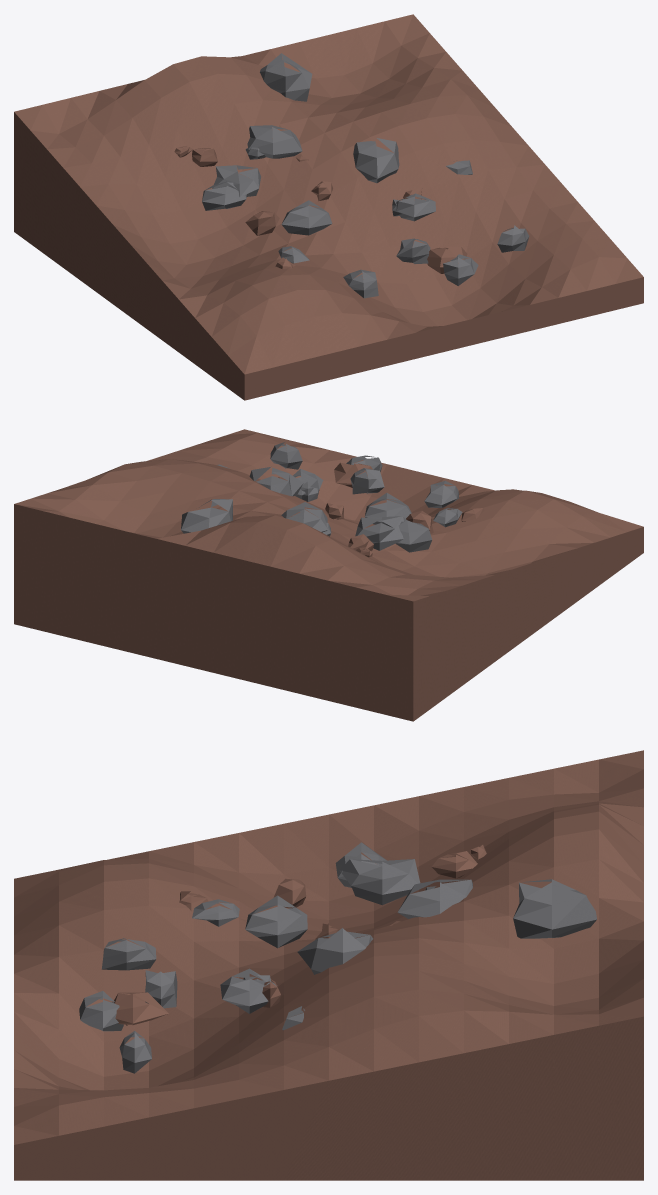
3 views of the same model, one above another, from view 1: azimuth 30°, elevation 25°; view 2: azimuth 150°, elevation 25°; view 3: azimuth 270°, elevation 25° (orthographic). The views are drawn at different scales.
Parts seen in each view (by area): view 1: volcano-and-lava-fields-cone-flank-module-shallow; view 2: volcano-and-lava-fields-cone-flank-module-shallow; view 3: volcano-and-lava-fields-cone-flank-module-shallow.
Part boxes in pixels (x1,y1,x2,y2): volcano-and-lava-fields-cone-flank-module-shallow: (14, 14, 643, 400); volcano-and-lava-fields-cone-flank-module-shallow: (14, 429, 643, 721); volcano-and-lava-fields-cone-flank-module-shallow: (14, 750, 643, 1180).
Size of the model in its own units: 4 by 1.47 by 4.
2 materials, 2 textured.
